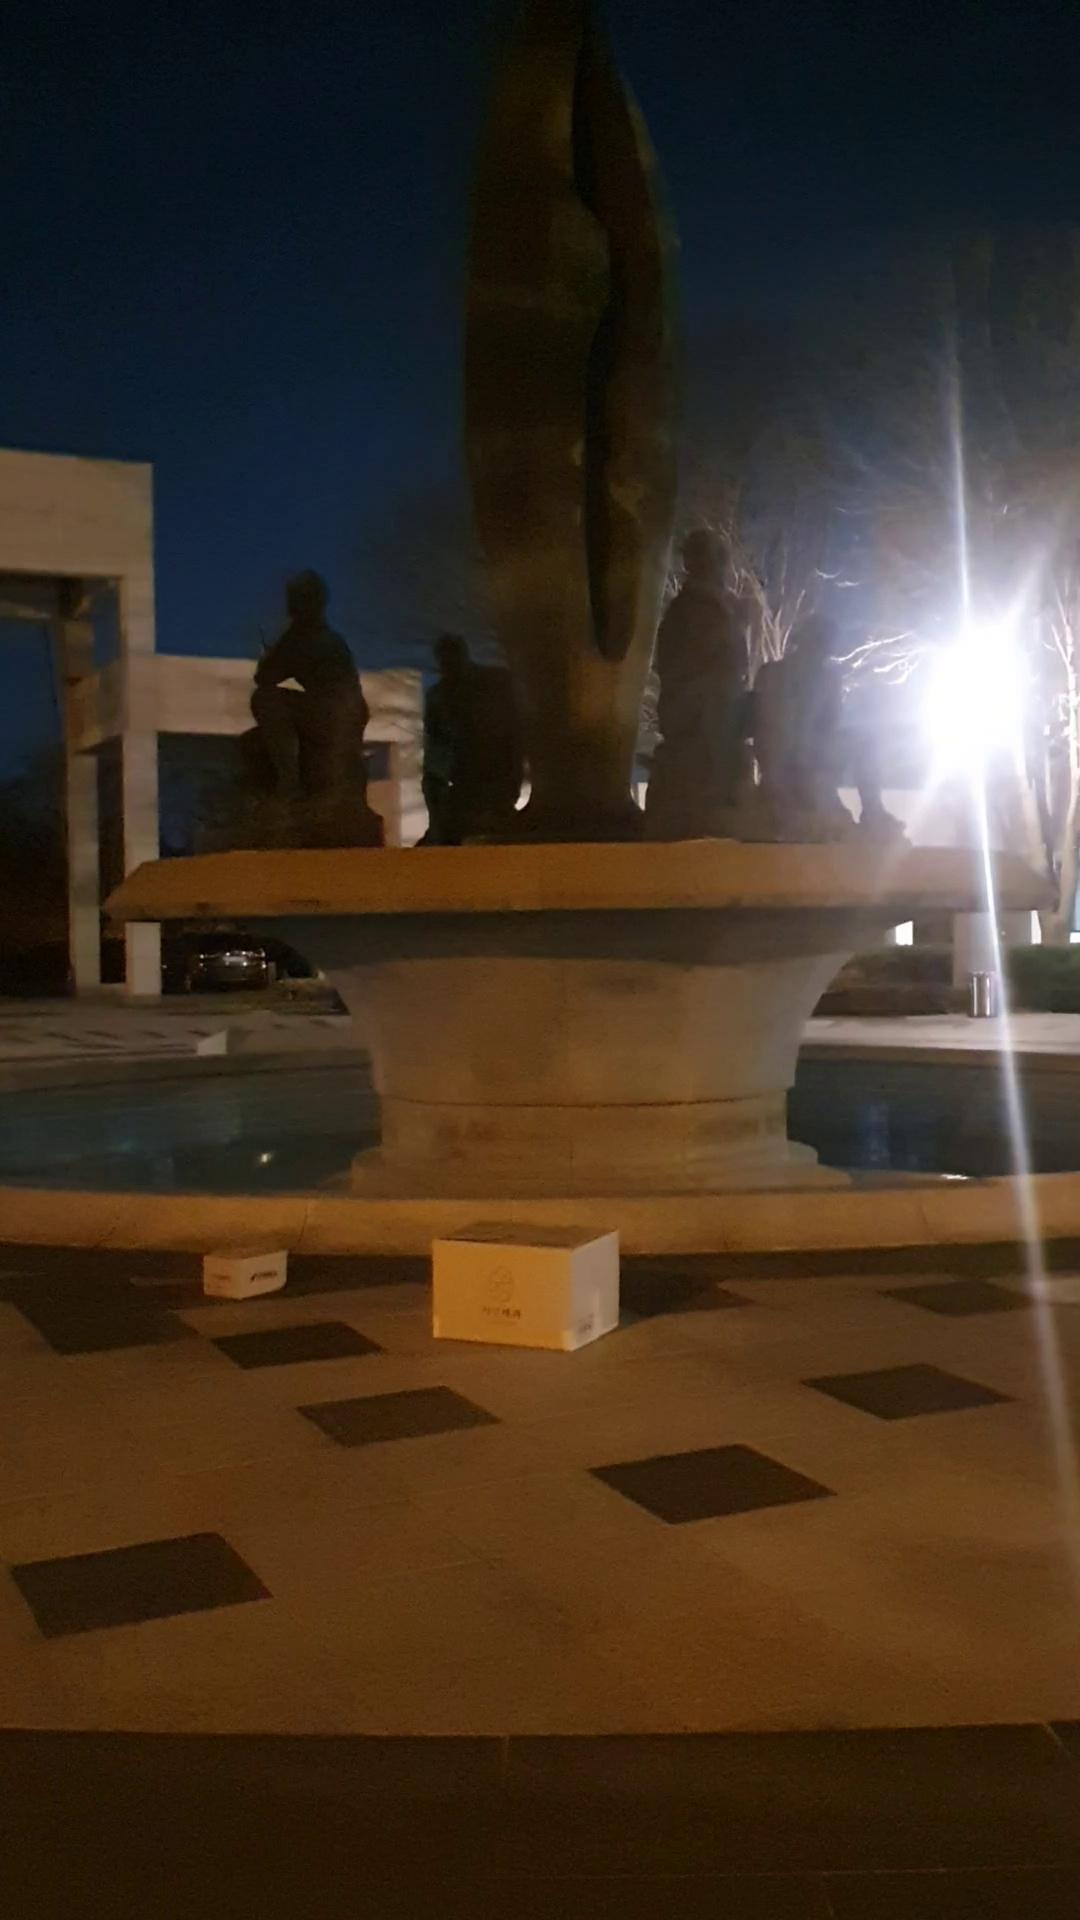Box: (421, 1200, 622, 1367), (186, 1240, 310, 1315)
